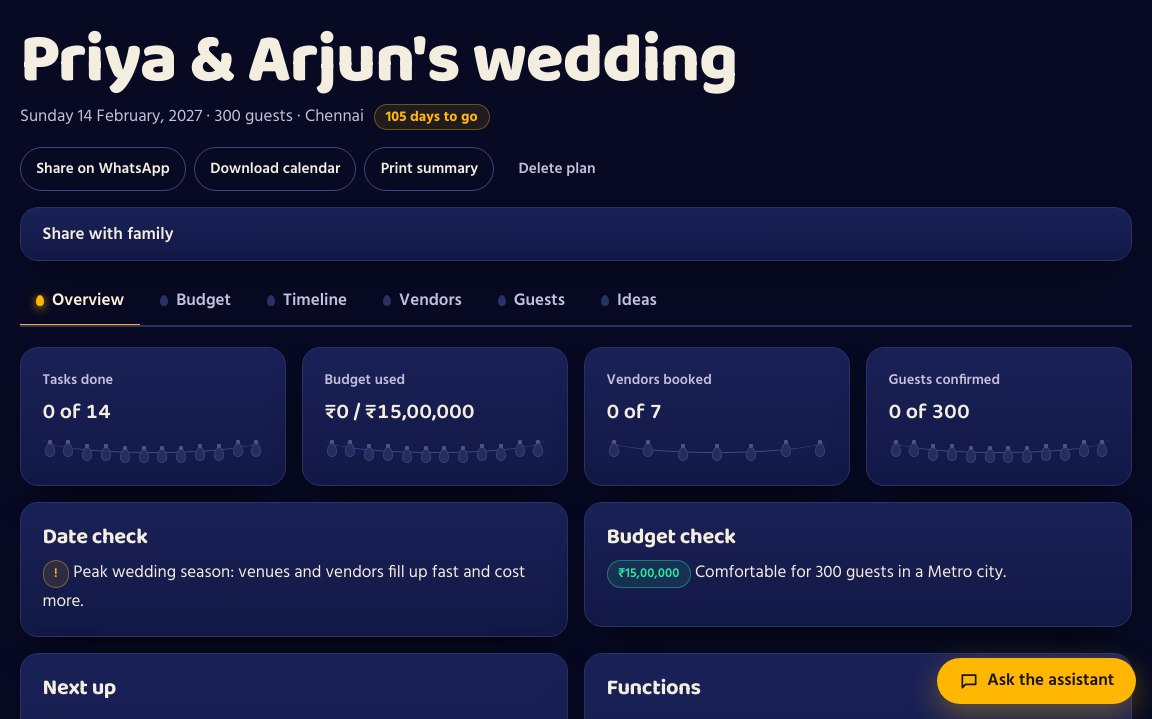
Scenario: Timeline tab › validates the add-task form before adding
Step 1. Click the tab "Timeline" → (307, 302), box [251,278,363,327]
(page scrolled)
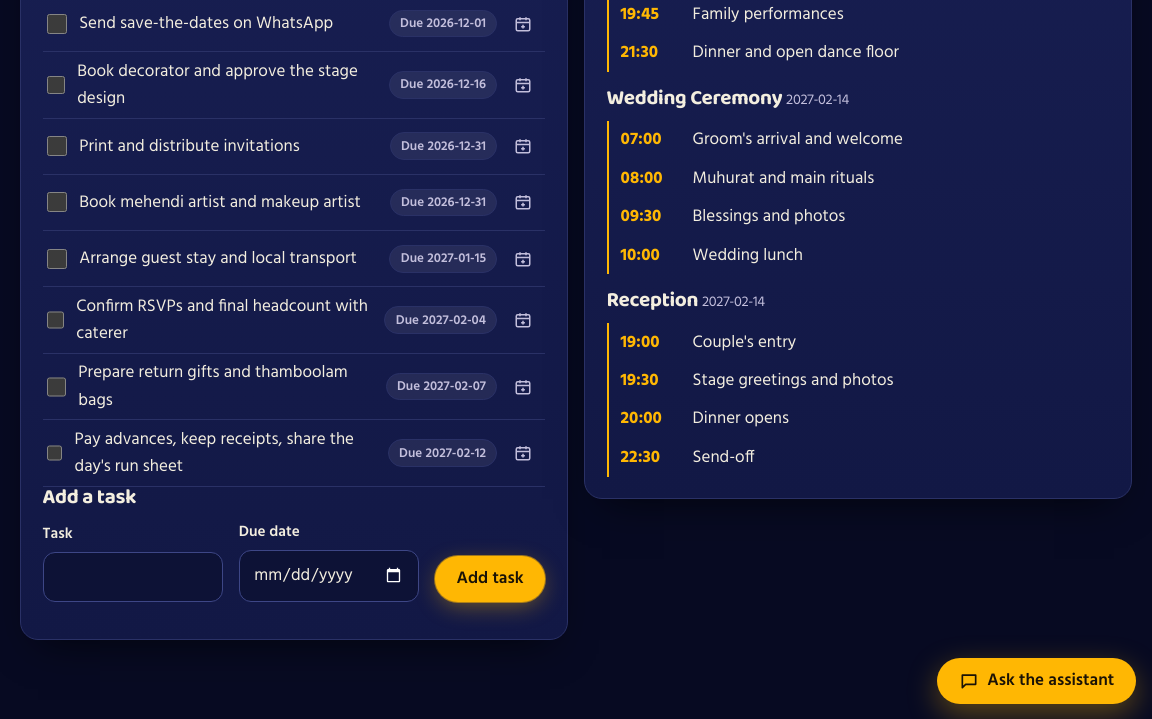
Step 2. Click the button "Add task" → (490, 579), box [435,556,546,602]
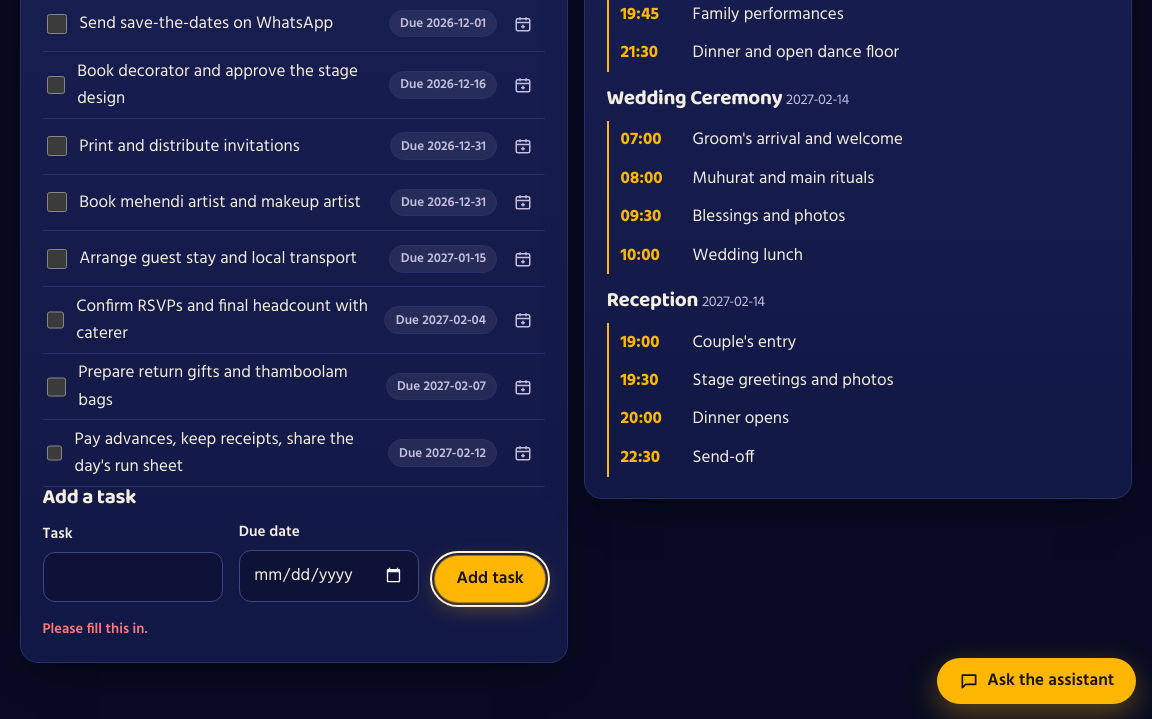
Check: the message reads "Please fill this in.", box [43,618,148,641]
Step 3. Type "Book nadaswaram" into the field labelled "Task" → (133, 577), box [43,552,223,602]
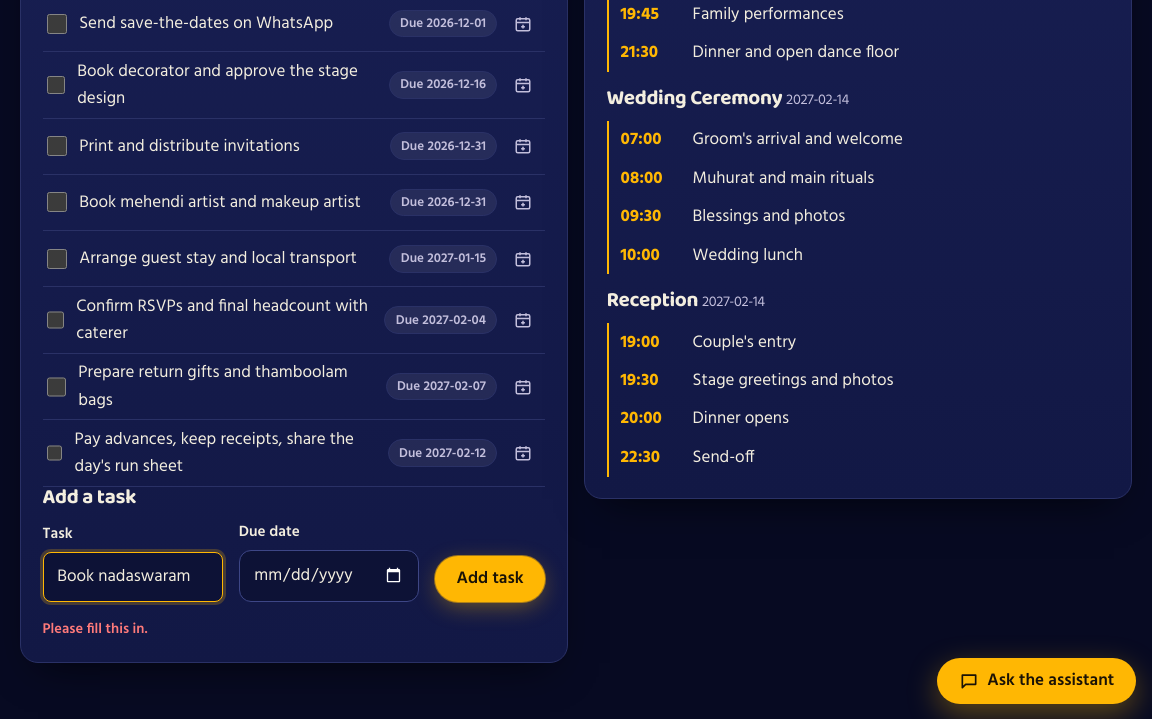
Step 4. Click the button "Add task" → (490, 579), box [435,556,546,602]
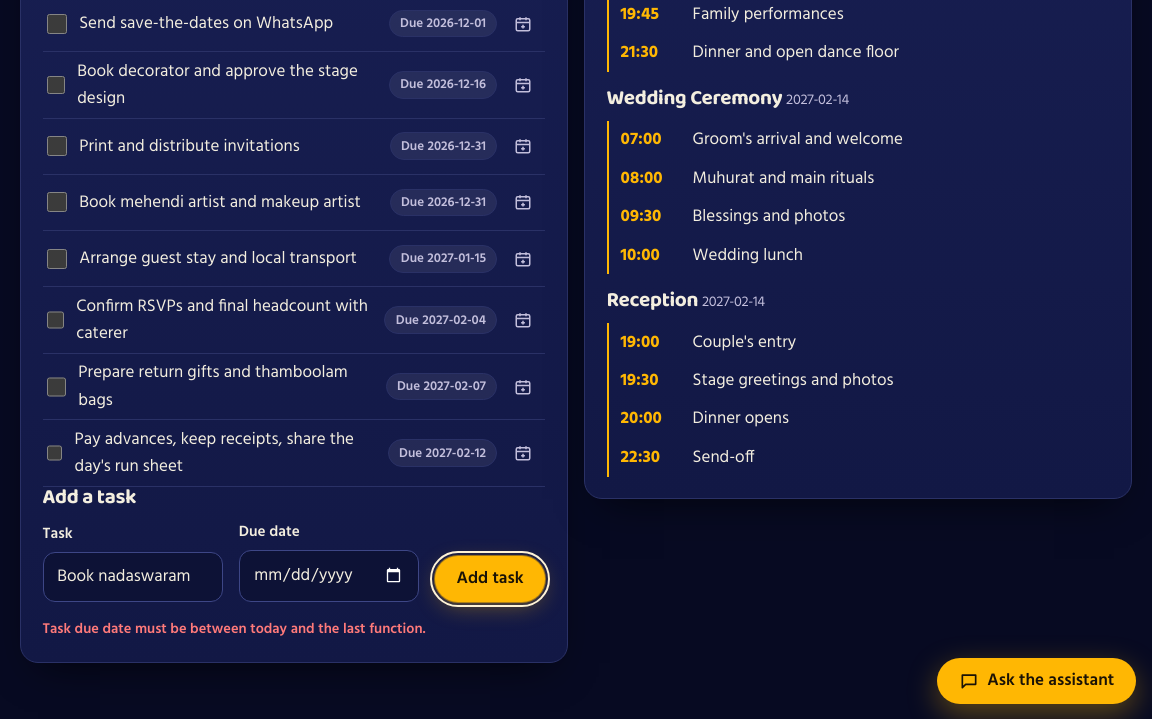
Check: the message shows "Task due date", box [43,618,426,641]
